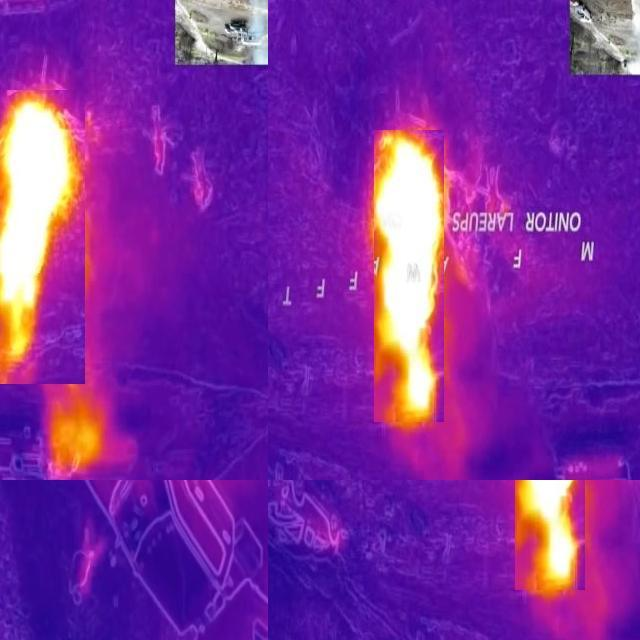fire: (1, 91, 86, 385), (375, 131, 445, 423), (516, 481, 586, 591)
